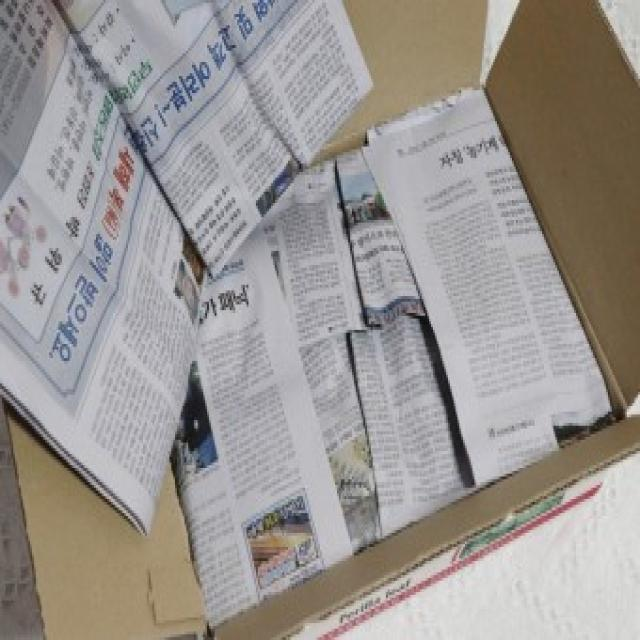Newspaper: (2, 0, 615, 619)
